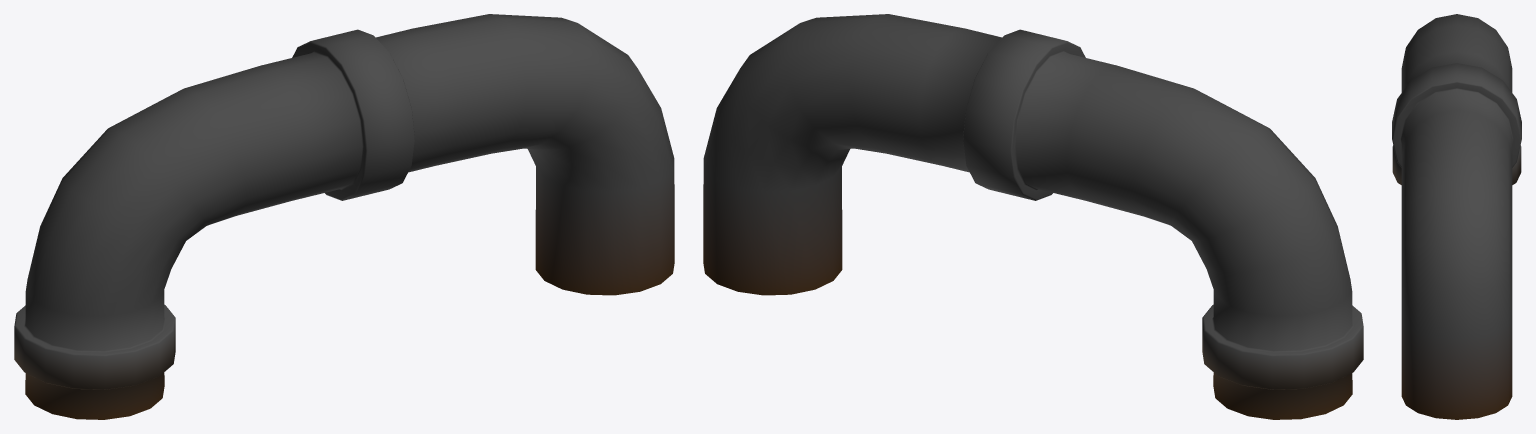
File: SM_Props_Dessus_01.fbx
The picture shows the model from 3 angles, left to right: view 1: azimuth 30°, elevation 25°; view 2: azimuth 150°, elevation 25°; view 3: azimuth 270°, elevation 25°; orthographic projection. The views are drawn at different scales.
Visible parts, largest first — view 1: transform19; view 2: transform19; view 3: transform19.
Part boxes in pixels (bbox=[...]): transform19: bbox=[14, 14, 674, 419]; transform19: bbox=[703, 14, 1363, 419]; transform19: bbox=[1392, 14, 1521, 419].
Size of the model in its own units: 366 by 157 by 81.32.
